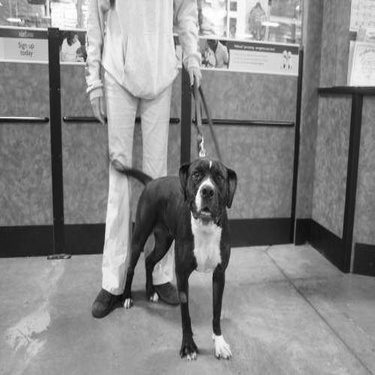dog: (95, 150, 238, 365)
